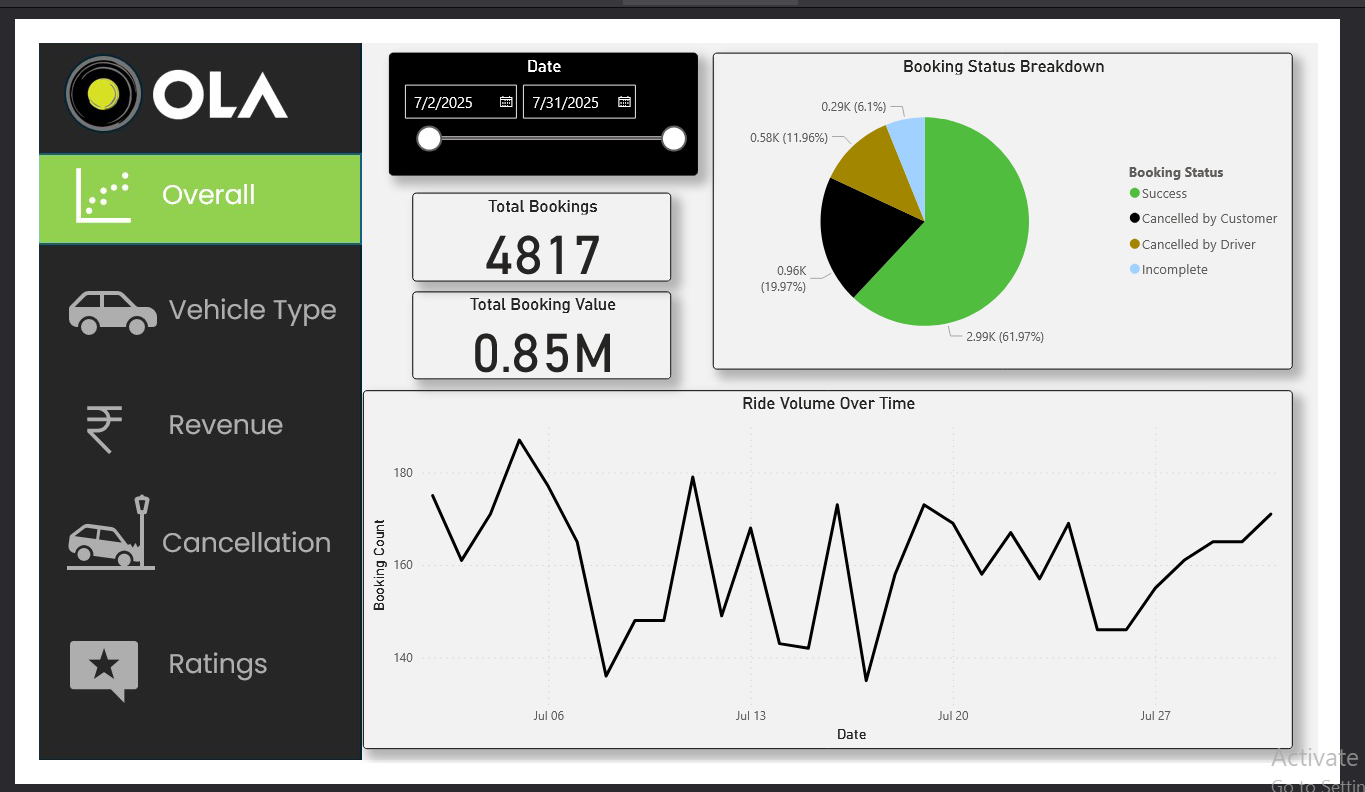

Layout of this report page (visuals, bound fields, positions):
{"tool":"powerbi","page":{"name":"Overall","canvas":[1280,720],"ordinal":0},"visuals":[{"type":"actionButton","box":[0,115,324.6,90.7],"z":0},{"type":"actionButton","box":[0,572.5,324.6,90.7],"z":1000},{"type":"lineChart","title":"Ride Volume Over Time","fields":{"Y":["CountNonNull(Bookings.Booking ID)"],"Category":["Bookings.Date"]},"box":[324.3,347.1,930,358.6],"z":2000},{"type":"pieChart","title":"Booking Status Breakdown","fields":{"Category":["Bookings.Booking Status"],"Y":["CountNonNull(Bookings.Booking ID)"]},"box":[674.3,10,580,317.1],"z":3000},{"type":"slicer","title":"Date","fields":{"Values":["Bookings.Date"]},"box":[349.9,9.6,308.7,123.5],"z":4000},{"type":"card","title":"Total Bookings","fields":{"Values":["CountNonNull(Bookings.Booking ID)"]},"box":[373.2,149.6,259.3,89.2],"z":5000},{"type":"card","title":"Total Booking Value","fields":{"Values":["Sum(Bookings.Booking Value)"]},"box":[373.2,248.4,259.3,87.8],"z":6000}]}

Visuals, with their boxes in screenshot pixels (x1, y1, x2, y2):
actionButton: box=[18, 160, 359, 255]
actionButton: box=[18, 641, 359, 737]
"Ride Volume Over Time" lineChart: box=[359, 404, 1337, 781]
"Booking Status Breakdown" pieChart: box=[727, 50, 1337, 383]
"Date" slicer: box=[386, 49, 710, 179]
"Total Bookings" card: box=[410, 196, 683, 290]
"Total Booking Value" card: box=[410, 300, 683, 393]
